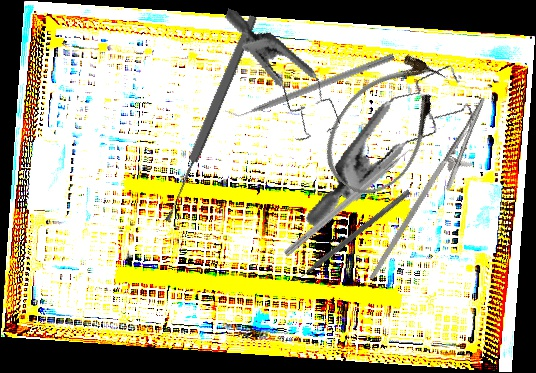Cannula: (308, 39, 464, 210)
Chopper: (282, 139, 427, 265), (224, 44, 395, 124)
Needle Holder: (369, 86, 500, 298)
Spatula Surgical: (287, 184, 412, 288)
Speculum: (303, 38, 489, 261), (194, 8, 364, 152)
Surgical Spoon: (160, 13, 260, 224)
